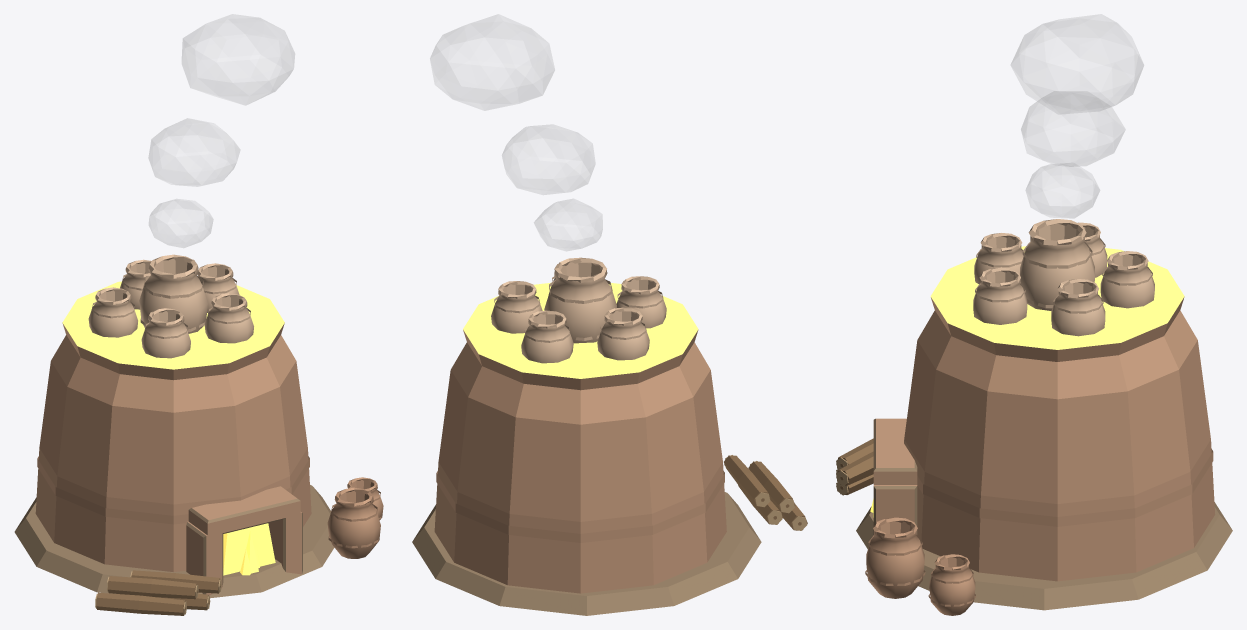
The model's file is kiln.glb.
3 renders of one model, left to right at view 1: azimuth 30°, elevation 25°; view 2: azimuth 150°, elevation 25°; view 3: azimuth 270°, elevation 25°, orthographic. The views are drawn at different scales.
Visible parts, largest first — view 1: kiln; view 2: kiln; view 3: kiln.
Part boxes in pixels (x1,y1,x2,y2): kiln: (14,14,383,615); kiln: (412,14,807,615); kiln: (836,14,1232,615).
Size of the model in its own units: 1.85 by 2.76 by 1.81.
